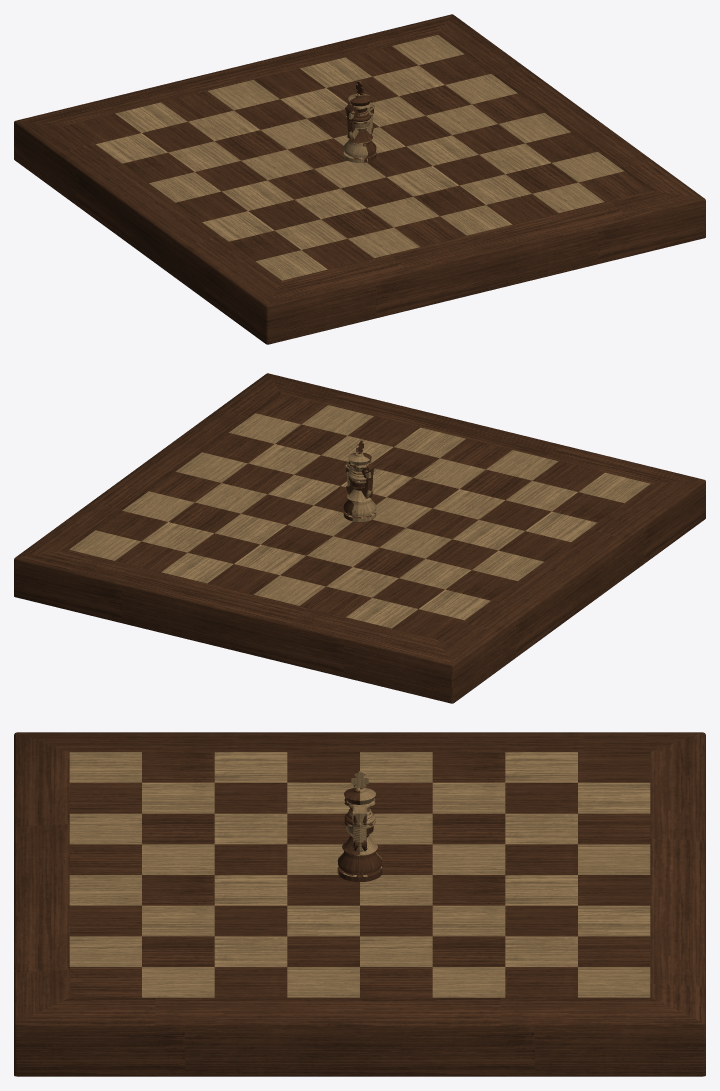
File: chess.glb
The picture shows the model from 3 angles, top to bottom: view 1: azimuth 30°, elevation 25°; view 2: azimuth 150°, elevation 25°; view 3: azimuth 270°, elevation 25°; orthographic projection. The views are drawn at different scales.
Parts seen in each view (by area): view 1: Chess_Board, King_White.001, King_White; view 2: Chess_Board, King_White; view 3: Chess_Board, King_White.001, King_White, Knight_White.
Part boxes in pixels (left/top/right/bottom): Chess_Board: left=14, top=14, right=705, bottom=344; King_White.001: left=349, top=82, right=376, bottom=162; King_White: left=343, top=81, right=375, bottom=162; Chess_Board: left=14, top=373, right=705, bottom=703; King_White: left=346, top=440, right=376, bottom=521; Chess_Board: left=14, top=732, right=705, bottom=1076; King_White.001: left=337, top=771, right=382, bottom=881; King_White: left=338, top=771, right=381, bottom=876; Knight_White: left=352, top=804, right=367, bottom=851.
Size of the model in its own units: 56.58 by 14.31 by 56.58.
Materials: 2 (2 with a texture image).
